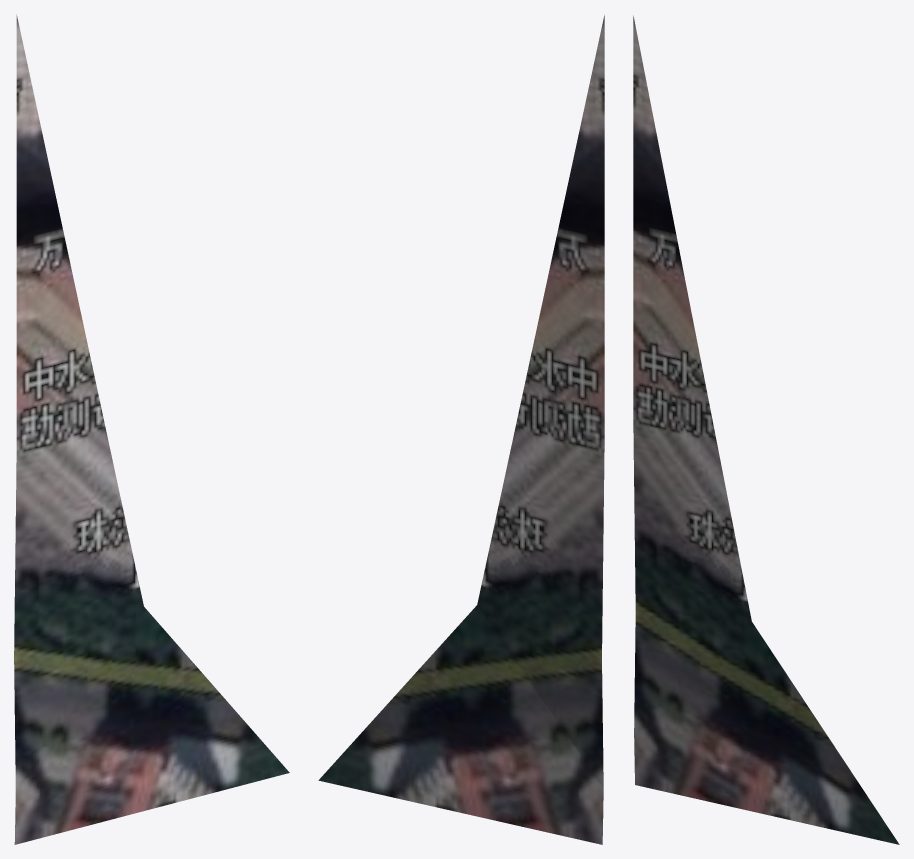
3 renders of one model, left to right at view 1: azimuth 30°, elevation 25°; view 2: azimuth 150°, elevation 25°; view 3: azimuth 330°, elevation 25°, orthographic. The views are drawn at different scales.
Visible parts, largest first — view 1: 0_1_2_0_0_0; view 2: 0_1_2_0_0_0; view 3: 0_1_2_0_0_0.
Boxes of the visible parts, left/top/right/bottom form: 0_1_2_0_0_0: left=14, top=14, right=289, bottom=844; 0_1_2_0_0_0: left=318, top=15, right=604, bottom=844; 0_1_2_0_0_0: left=633, top=15, right=899, bottom=844.
Size of the model in its own units: 51.49 by 146 by 2.27.
Materials: 1 (1 with a texture image).
